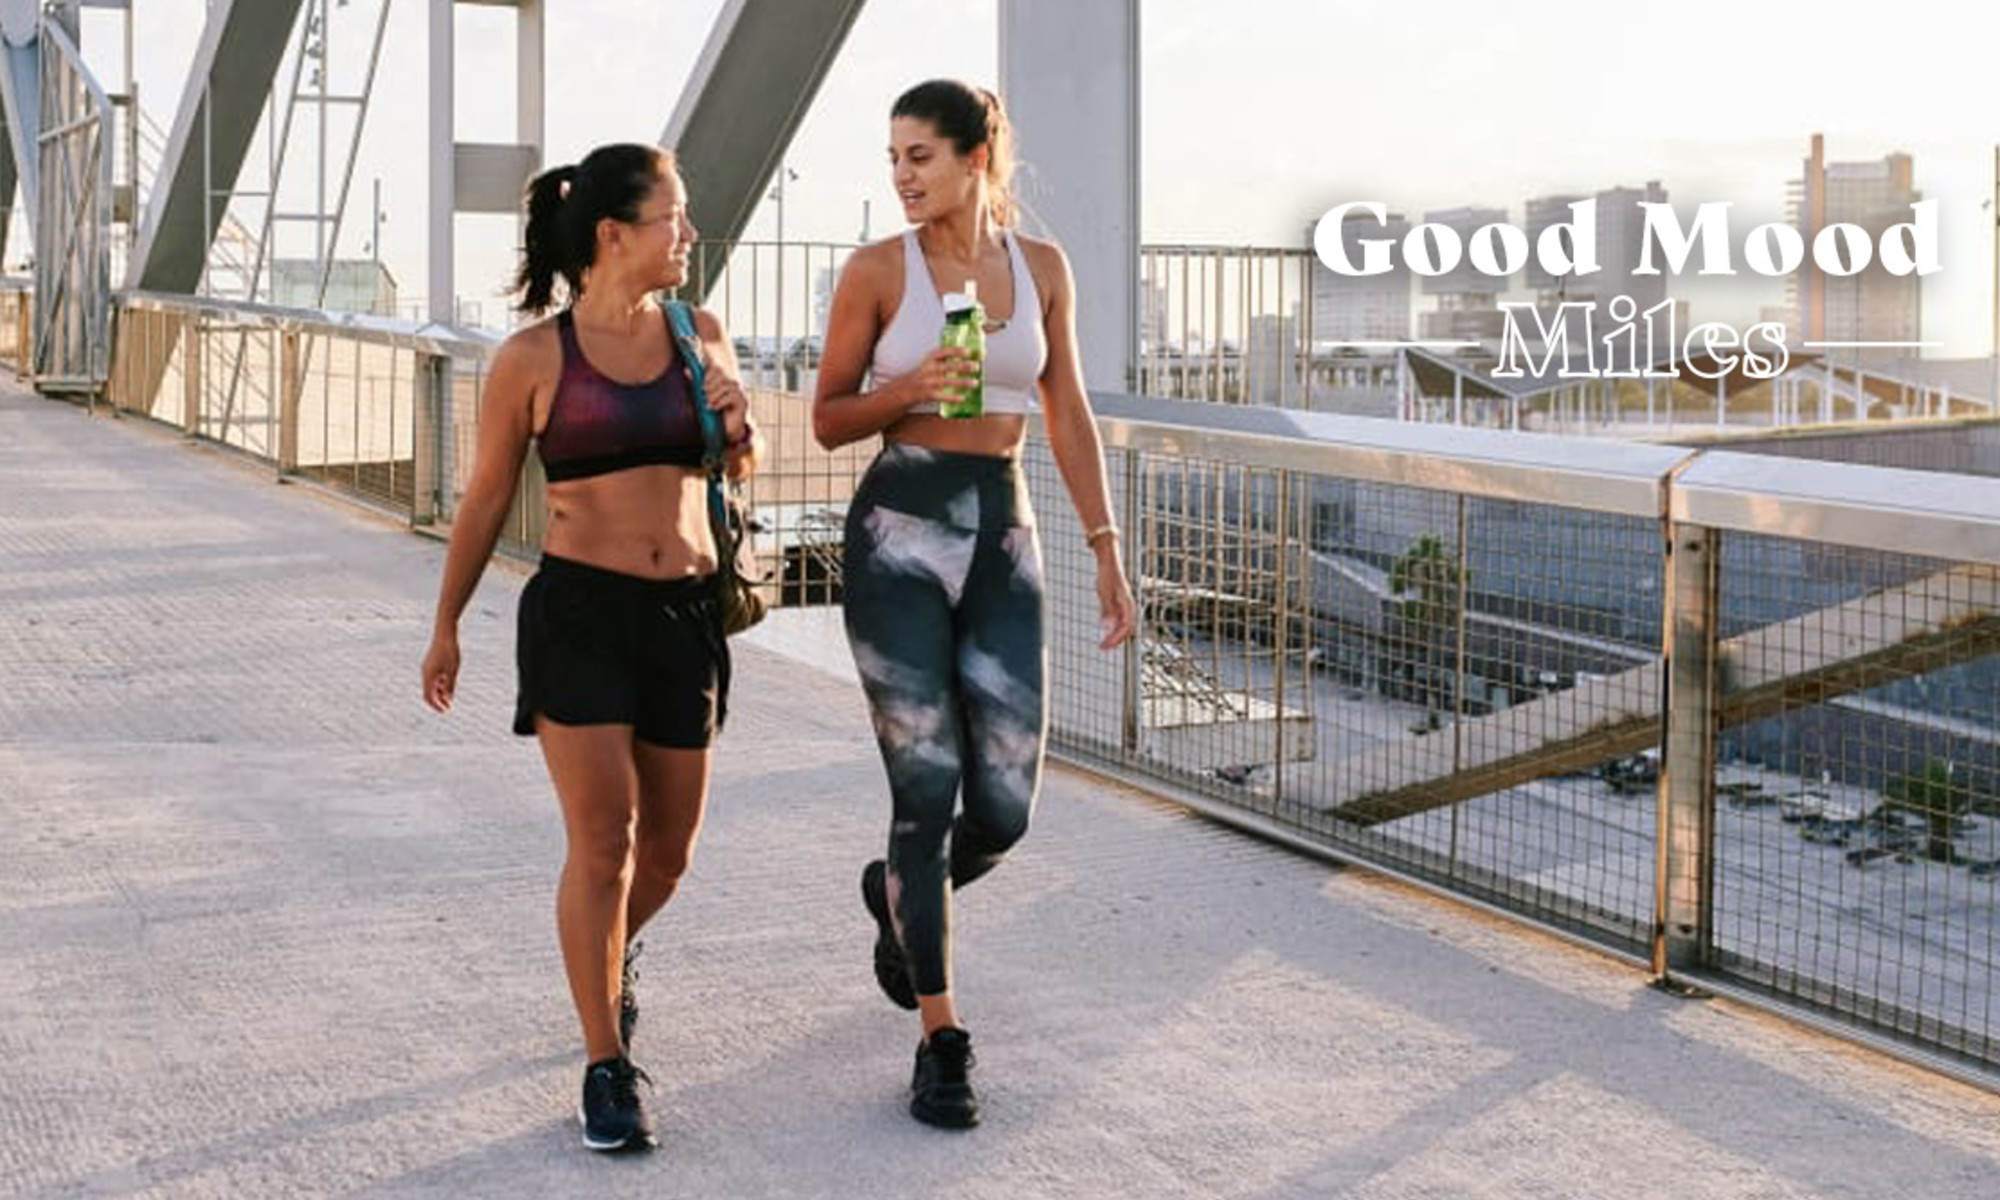person: (423, 102, 773, 1167), (794, 81, 1126, 1140)
